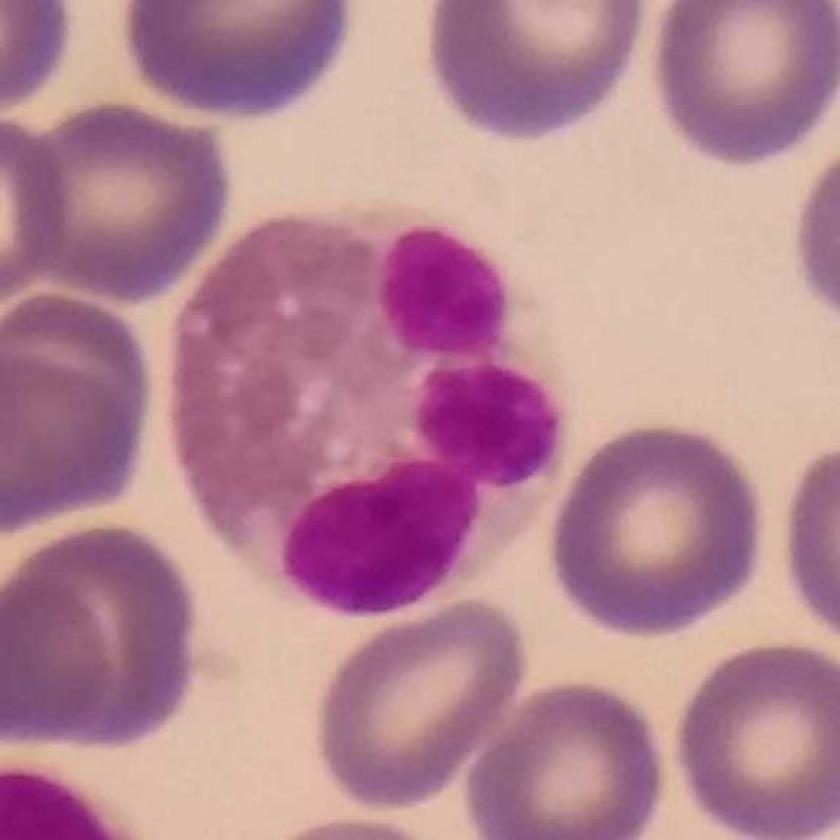eosinophil: (171, 195, 574, 626)
